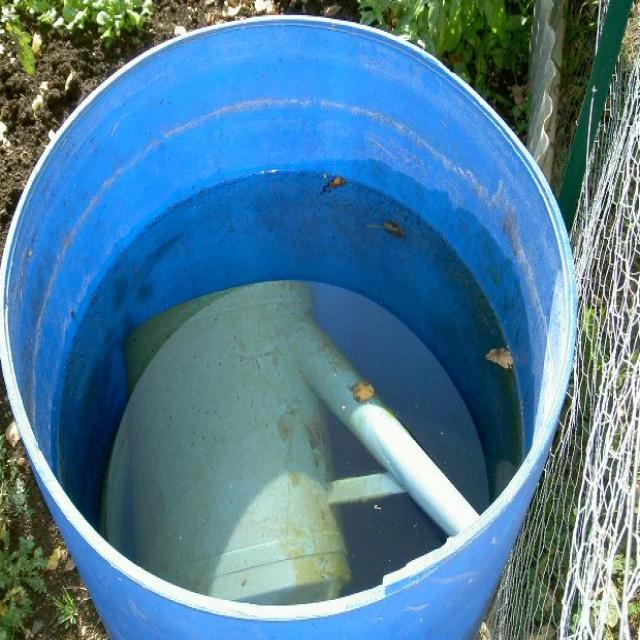Breeding Place: (0, 22, 574, 640)
